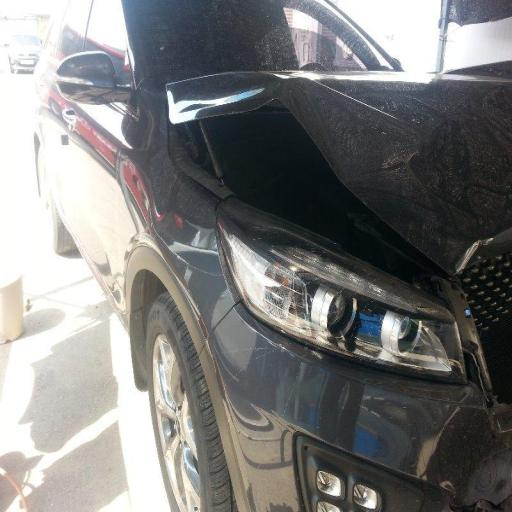dent: (190, 27, 476, 217)
scratch: (192, 286, 466, 472)
